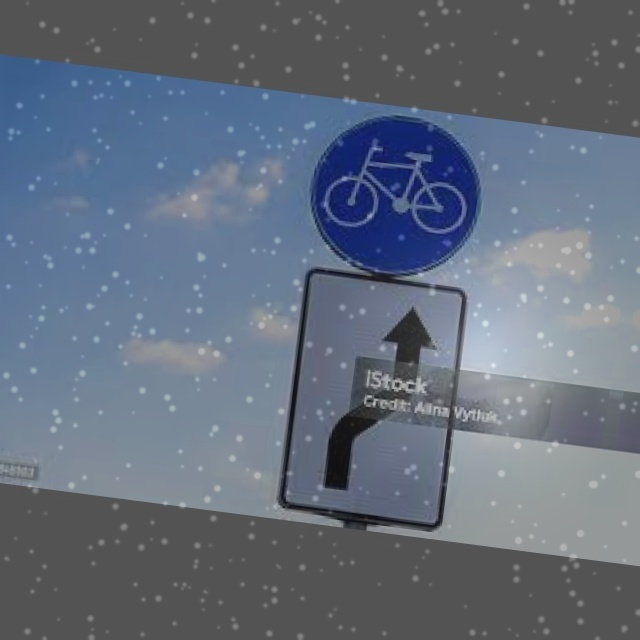Compulsory_Cycle_Track: (301, 107, 493, 284)
